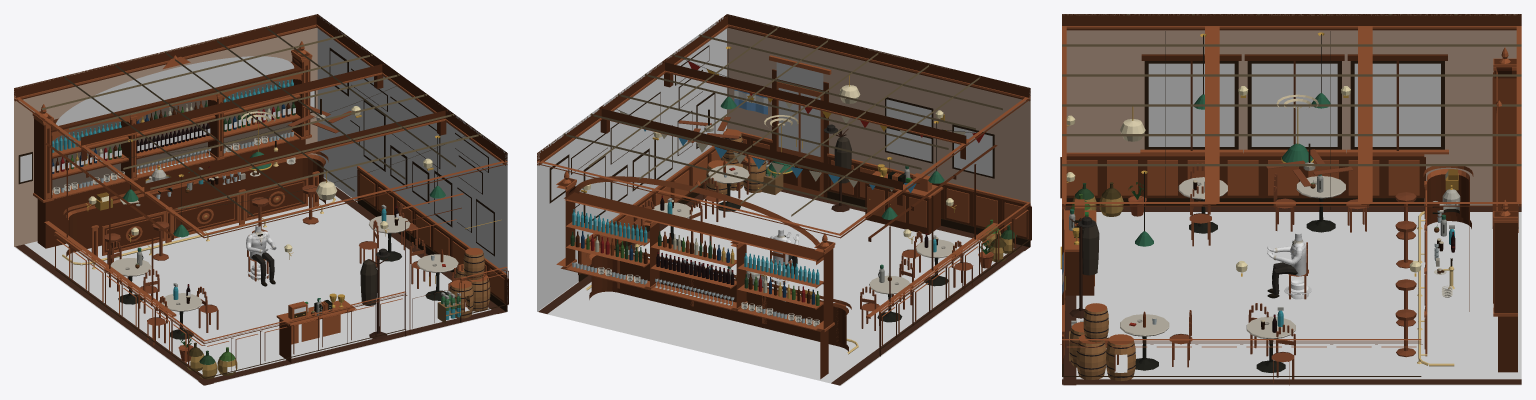
File: boliche.glb
3 views of the same model, side by side, from view 1: azimuth 30°, elevation 25°; view 2: azimuth 150°, elevation 25°; view 3: azimuth 270°, elevation 25° (orthographic). The views are drawn at different scales.
Visible parts, largest first — view 1: boliche, brillo, cuerpo; view 2: boliche, brillo, cuerpo; view 3: boliche, brillo, cuerpo.
Boxes of the visible parts, left/top/right/bottom form: boliche: left=14, top=14, right=508, bottom=385; brillo: left=56, top=56, right=432, bottom=313; cuerpo: left=246, top=226, right=276, bottom=286; boliche: left=537, top=14, right=1031, bottom=385; brillo: left=582, top=62, right=953, bottom=237; cuerpo: left=770, top=230, right=799, bottom=274; boliche: left=1060, top=14, right=1521, bottom=385; brillo: left=1066, top=63, right=1440, bottom=272; cuerpo: left=1267, top=233, right=1306, bottom=298.
Bounding box in the file's own units: 7.31 × 4.38 × 7.83.
